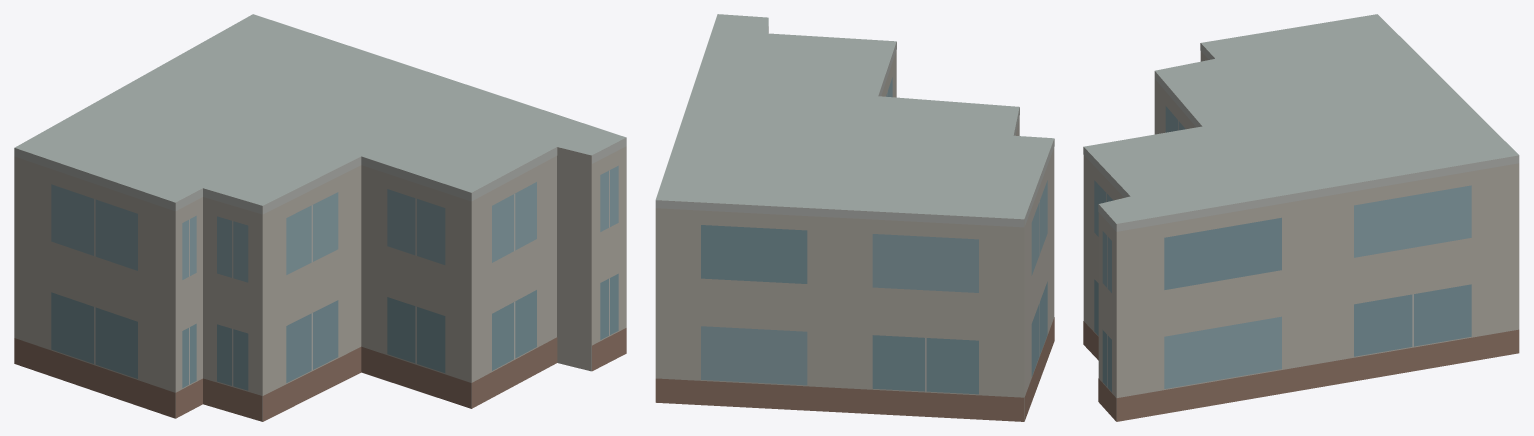
File: survey-upis-32608837.glb
3 renders of one model, left to right at view 1: azimuth 30°, elevation 25°; view 2: azimuth 150°, elevation 25°; view 3: azimuth 270°, elevation 25°, orthographic. The views are drawn at different scales.
Visible parts, largest first — view 1: survey-upis-32608837.tmp; view 2: survey-upis-32608837.tmp; view 3: survey-upis-32608837.tmp.
Boxes of the visible parts, x1,y1,x2,y2 form: survey-upis-32608837.tmp: [14, 14, 626, 421]; survey-upis-32608837.tmp: [655, 14, 1054, 421]; survey-upis-32608837.tmp: [1083, 14, 1519, 421].
Bounding box in the file's own units: 13.89 × 6.1 × 12.19.
